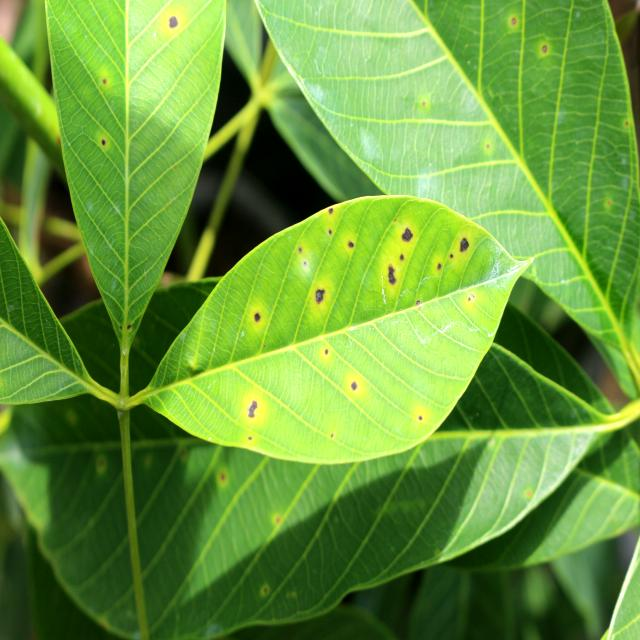Colletotrichum: (401, 227, 413, 243), (315, 289, 325, 303), (459, 238, 469, 252), (169, 15, 178, 29)
